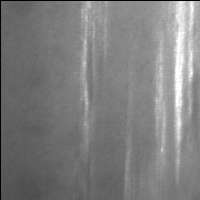scratches: (173, 2, 196, 171), (149, 38, 169, 157), (77, 5, 93, 139)
